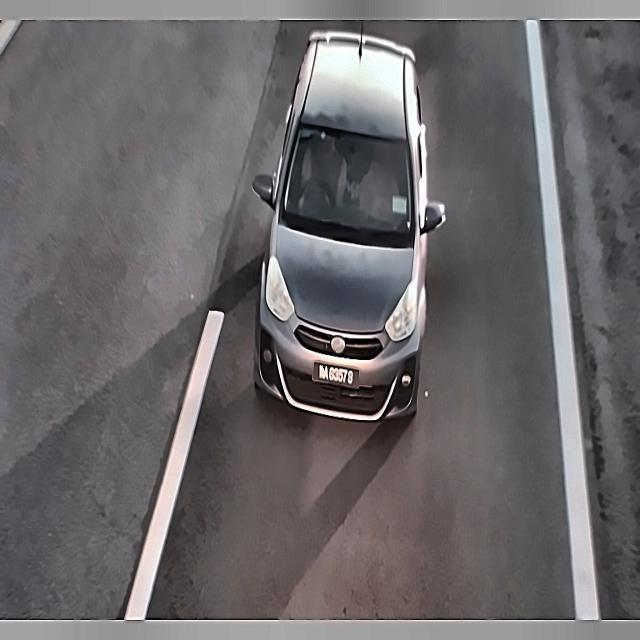car: (304, 355, 372, 398)
